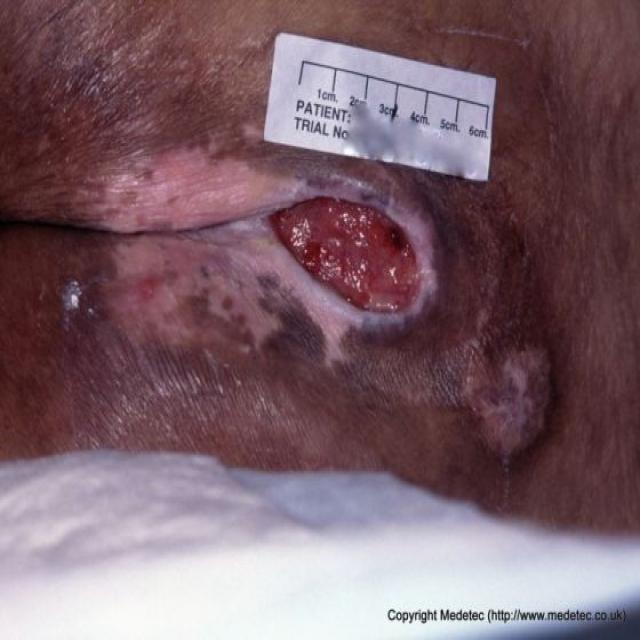stage-3: (269, 198, 420, 312)
